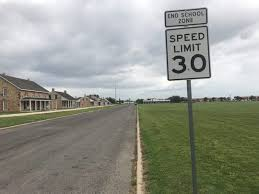speedLimit30: (164, 25, 210, 81)
